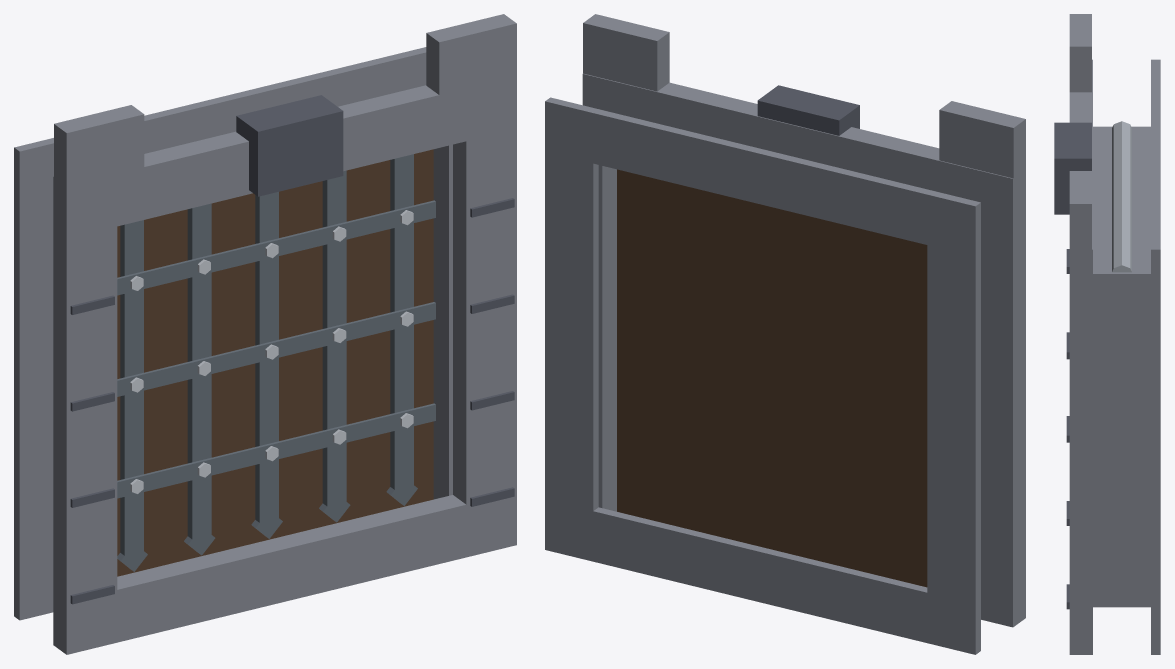
The model's file is CatCafe_CatFlap_Portcullis.glb.
3 renders of one model, left to right at view 1: azimuth 30°, elevation 25°; view 2: azimuth 150°, elevation 25°; view 3: azimuth 270°, elevation 25°, orthographic. The views are drawn at different scales.
Visible parts, largest first — view 1: CatCafe_CatFlap_Portcullis, CatCafe_CatFlap_Portcullis_Flap; view 2: CatCafe_CatFlap_Portcullis, CatCafe_CatFlap_Portcullis_Flap; view 3: CatCafe_CatFlap_Portcullis, CatCafe_CatFlap_Portcullis_Flap.
Boxes of the visible parts, x1=… form: CatCafe_CatFlap_Portcullis: x1=14, y1=14, x2=516, y2=654; CatCafe_CatFlap_Portcullis_Flap: x1=117, y1=149, x2=435, y2=576; CatCafe_CatFlap_Portcullis: x1=545, y1=14, x2=1025, y2=654; CatCafe_CatFlap_Portcullis_Flap: x1=617, y1=169, x2=927, y2=587; CatCafe_CatFlap_Portcullis: x1=1054, y1=14, x2=1160, y2=654; CatCafe_CatFlap_Portcullis_Flap: x1=1112, y1=121, x2=1131, y2=272.
Size of the model in its own units: 2.32 by 2.57 by 0.55.
Materials: 1 (1 with a texture image).
